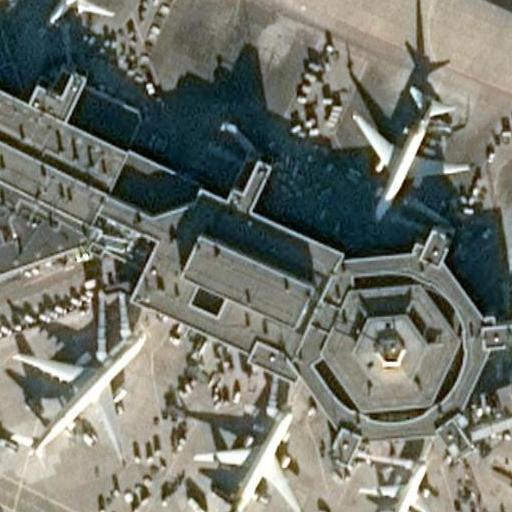Aircraft: (5, 310, 154, 464), (342, 82, 465, 217), (189, 396, 299, 512), (353, 448, 433, 512), (38, 0, 112, 24)
